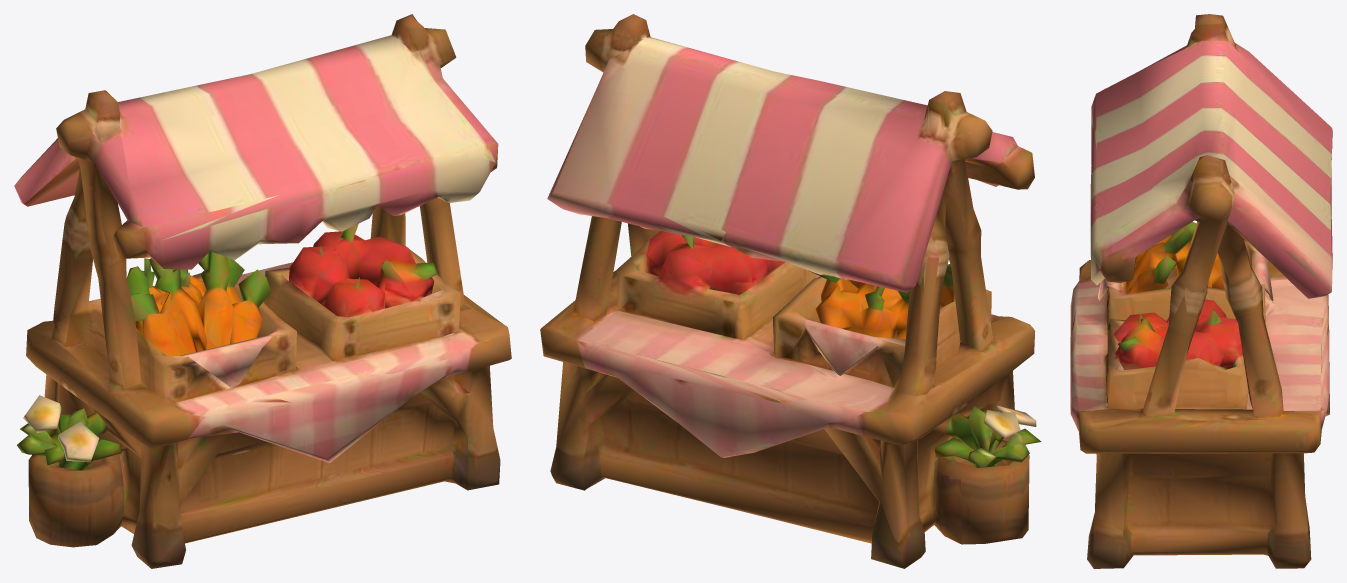
3 views of the same model, side by side, from view 1: azimuth 30°, elevation 25°; view 2: azimuth 150°, elevation 25°; view 3: azimuth 270°, elevation 25° (orthographic). The views are drawn at different scales.
Visible parts, largest first — view 1: market-stall; view 2: market-stall; view 3: market-stall.
Boxes of the visible parts, x1,y1,x2,y2 form: market-stall: (14,14,511,568); market-stall: (540,14,1041,568); market-stall: (1070,14,1332,568).
Bounding box in the file's own units: 2.4 × 2.31 × 1.36.
1 material, 1 textured.
